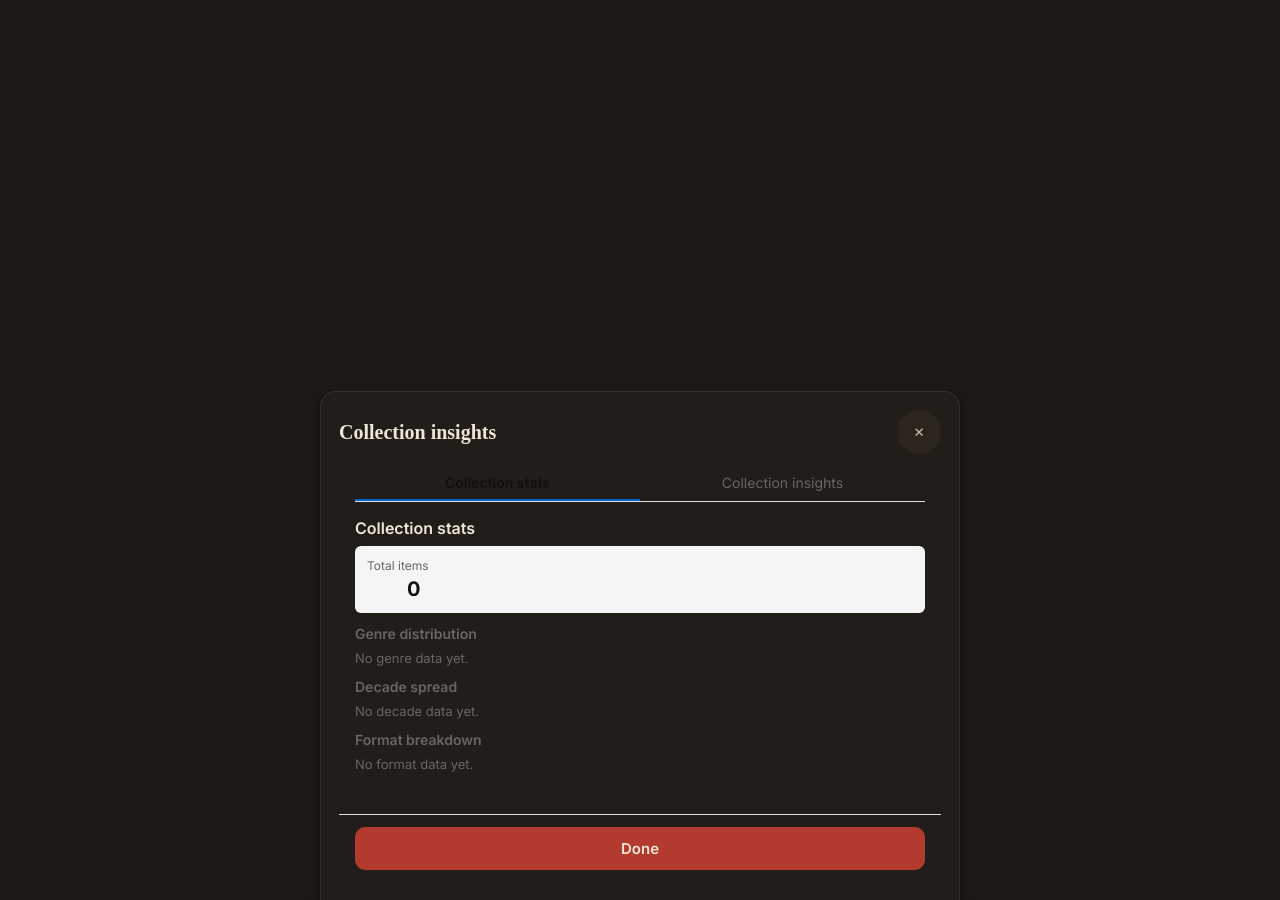
Test: InsightsDashboard — AI Insights tab › shows empty state when no items in collection
Click the tab "Collection insights".
click(782, 484)  # box left=640, top=466, right=925, bottom=501
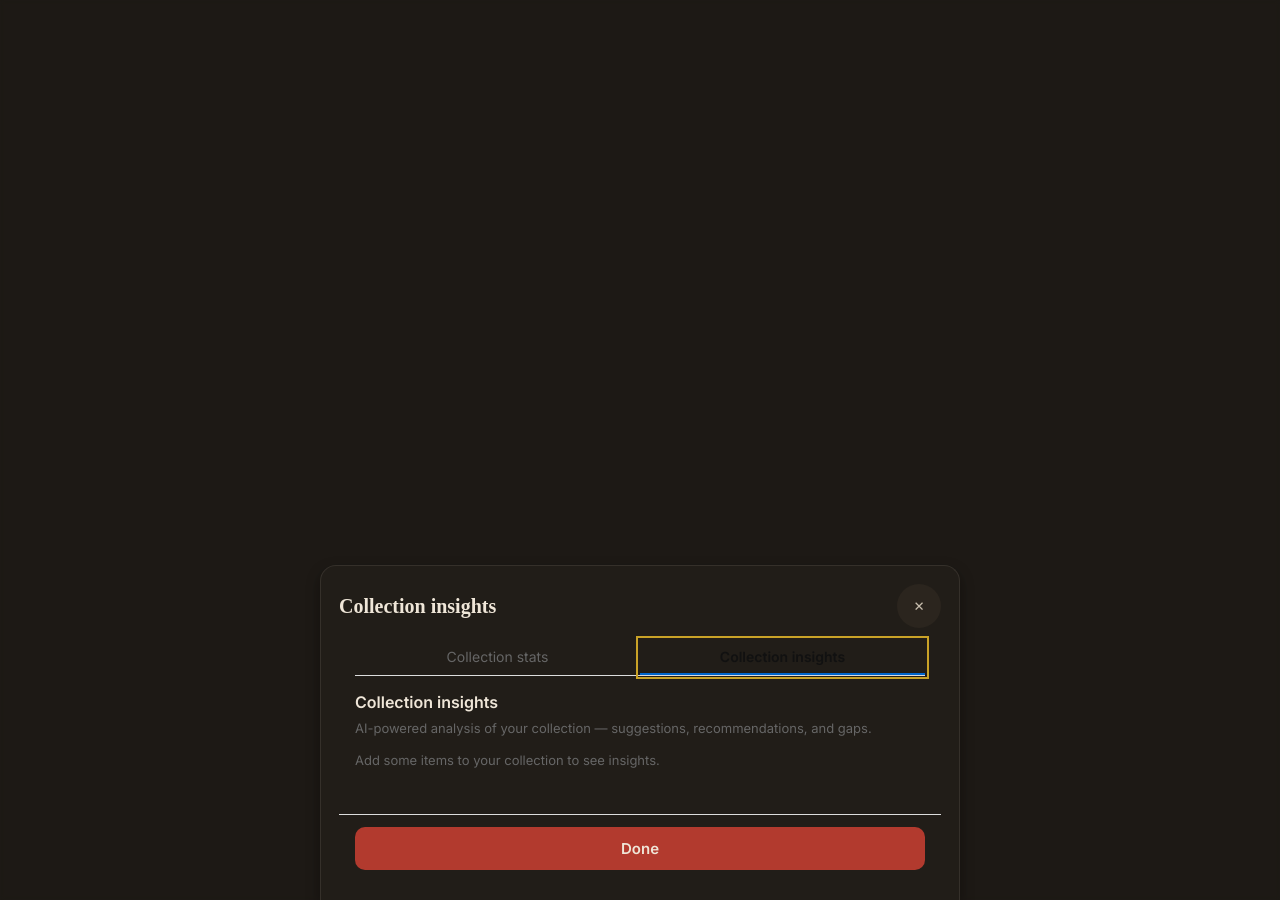
Expected: the text "Add some items to your collection to see insights." is shown, left=355, top=752, right=660, bottom=768
